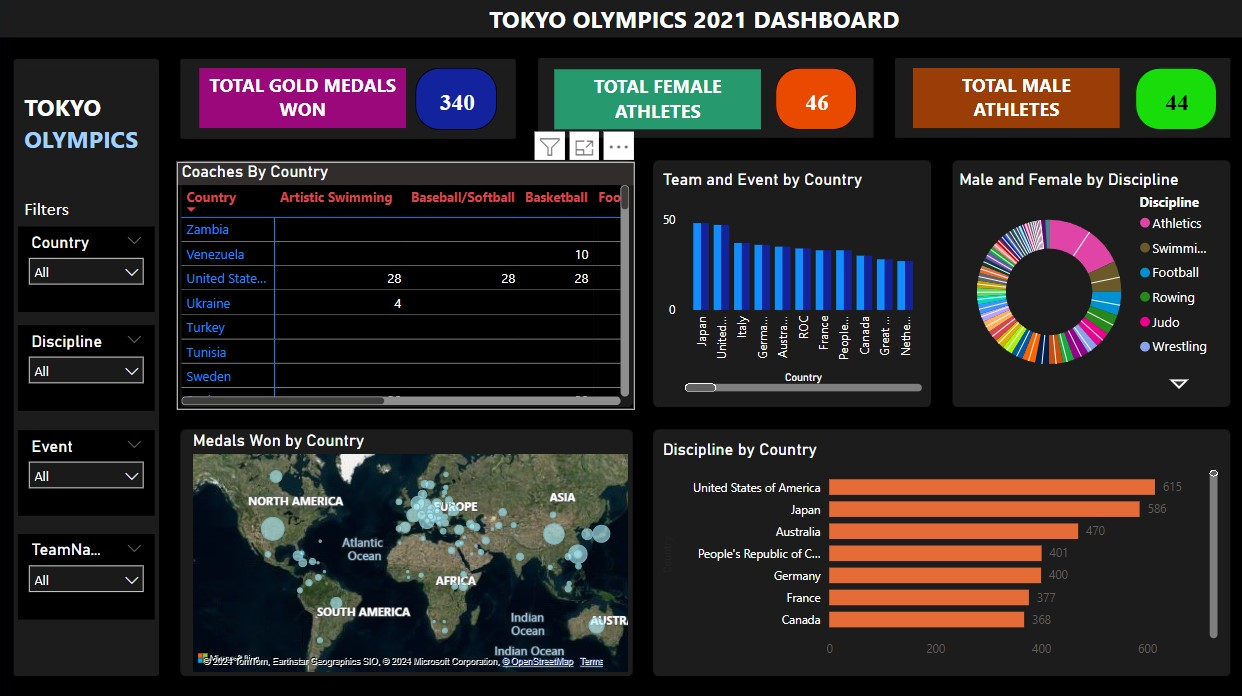

Layout of this report page (visuals, bound fields, positions):
{"tool":"powerbi","page":{"name":"Page 1","canvas":[1280,720],"ordinal":0},"visuals":[{"type":"textbox","box":[499.3,0,453.5,43.4],"z":0},{"type":"map","title":"Medals Won by Country","fields":{"Category":["medals.Team_Country"],"Size":["medals.Total_Medals"]},"box":[195.4,443.8,455.9,253.3],"z":1000},{"type":"donutChart","title":"Male and Female by Discipline","fields":{"Category":["entriesgender.Discipline"],"Y":["Sum(entriesgender.Male)","Sum(entriesgender.Female)"]},"box":[980.5,176.1,275,232.8],"z":2000},{"type":"barChart","title":"Discipline by Country","fields":{"Category":["athletes.Country"],"Y":["CountNonNull(athletes.Discipline)"]},"box":[676.5,452.8,579.1,233.3],"z":3000},{"type":"lineClusteredColumnComboChart","title":"Team and Event by Country","fields":{"Category":["teams.Country"],"Y":["CountNonNull(teams.Event)","CountNonNull(teams.TeamName)"]},"box":[676.5,175.6,275.8,233.3],"z":4000},{"type":"pivotTable","title":"Coaches By Country","fields":{"Rows":["coaches.Country"],"Columns":["coaches.Discipline"],"Values":["coaches.Coaches_Count_Country_Event"]},"box":[183.3,167.6,469.1,254.5],"z":5000},{"type":"textbox","box":[21.7,200.2,72.4,35],"z":6000},{"type":"slicer","fields":{"Values":["athletes.Country"]},"box":[20.5,235.2,139.9,86.8],"z":7000},{"type":"cardVisual","title":"Total Coaches","fields":{"Data":["medals.Total_Gold"]},"box":[423.3,66.3,94.1,74.8],"z":8000},{"type":"cardVisual","title":"Total Coaches","fields":{"Data":["entriesgender.Total_Female_Athletes"]},"box":[792.4,66.3,94.1,74.8],"z":9000},{"type":"cardVisual","title":"Total Coaches","fields":{"Data":["entriesgender.Total_Male_Athletes"]},"box":[1161.4,66.3,94.1,74.8],"z":10000},{"type":"textbox","box":[206.2,72.4,212.3,61.5],"z":11000},{"type":"textbox","box":[570.5,73.6,212.3,61.5],"z":12000},{"type":"textbox","box":[938.3,72.4,212.3,61.5],"z":13000},{"type":"textbox","box":[21.7,90.5,138.7,85.6],"z":14000},{"type":"slicer","fields":{"Values":["coaches.Discipline"]},"box":[20.5,335.3,139.9,86.8],"z":15000},{"type":"slicer","fields":{"Values":["coaches.Event"]},"box":[20.5,443.8,139.9,86.8],"z":16000},{"type":"slicer","fields":{"Values":["teams.TeamName"]},"box":[20.5,549.9,139.9,86.8],"z":17000}]}

Visuals, with their boxes in screenshot pixels (x1, y1, x2, y2), scaled from the page's 1280x720 canvas onto the 1242x696 screenshot:
textbox: 484:0:925:42
"Medals Won by Country" map: 190:429:632:674
"Male and Female by Discipline" donutChart: 951:170:1218:395
"Discipline by Country" barChart: 656:438:1218:663
"Team and Event by Country" lineClusteredColumnComboChart: 656:170:924:395
"Coaches By Country" pivotTable: 178:162:633:408
textbox: 21:194:91:227
slicer - athletes.Country: 20:227:156:311
"Total Coaches" cardVisual: 411:64:502:136
"Total Coaches" cardVisual: 769:64:860:136
"Total Coaches" cardVisual: 1127:64:1218:136
textbox: 200:70:406:129
textbox: 554:71:760:131
textbox: 910:70:1116:129
textbox: 21:87:156:170
slicer - coaches.Discipline: 20:324:156:408
slicer - coaches.Event: 20:429:156:513
slicer - teams.TeamName: 20:532:156:615
